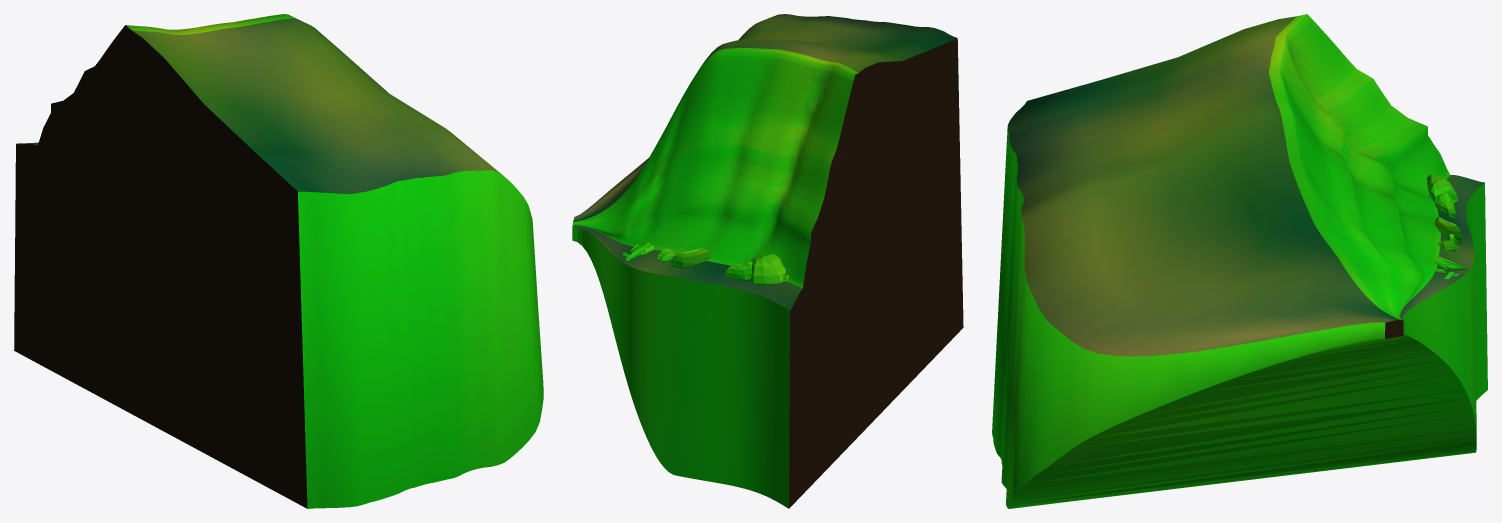
Rendered from SM_ForestRisingCliffs_01.fbx.
3 renders of one model, left to right at view 1: azimuth 30°, elevation 25°; view 2: azimuth 150°, elevation 25°; view 3: azimuth 270°, elevation 25°, orthographic. The views are drawn at different scales.
Visible parts, largest first — view 1: SM_ForestRisingCliffs_01; view 2: SM_ForestRisingCliffs_01; view 3: SM_ForestRisingCliffs_01.
Boxes of the visible parts, x1,y1,x2,y2 form: SM_ForestRisingCliffs_01: (14,14,543,508); SM_ForestRisingCliffs_01: (572,14,963,508); SM_ForestRisingCliffs_01: (992,14,1487,508).
Size of the model in its own units: 38.54 by 53.23 by 45.72.
